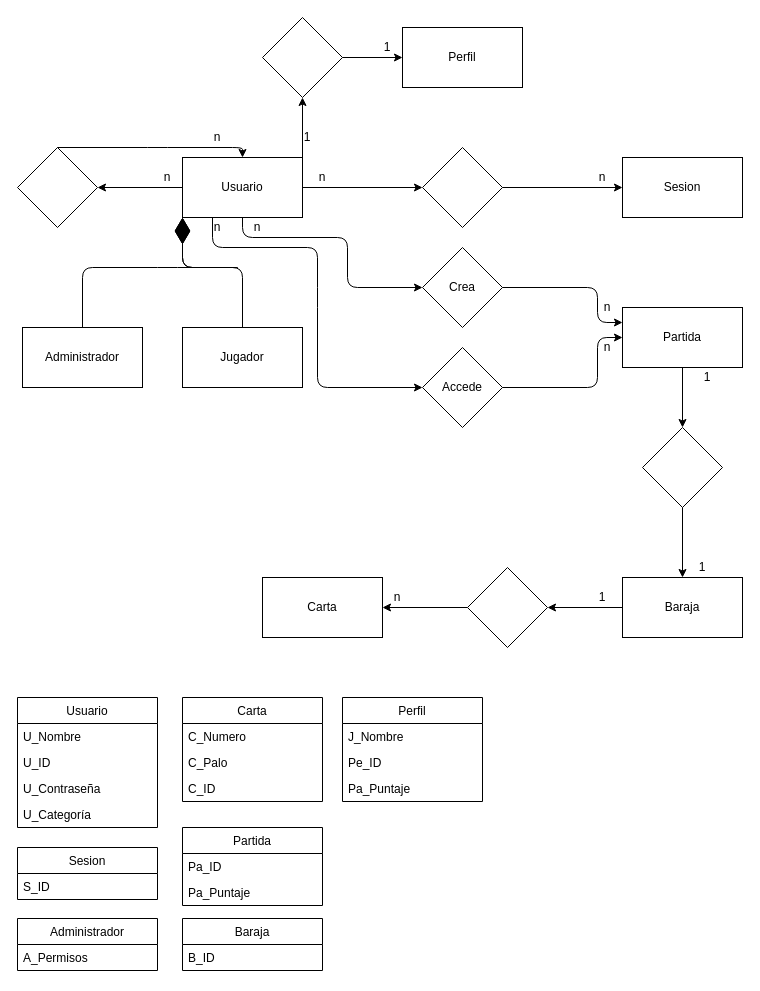
Some shapes in this 760 by 991 pixel diagram are drawn without their labels. The shapes that lost their labels are listed below. From the top down, each one's centre as x and y in pixels, then its label:
(302,57): Tiene_3
(57,187): Chatea
(462,187): Inicia
(682,467): Tiene_1
(507,607): Tiene_2
